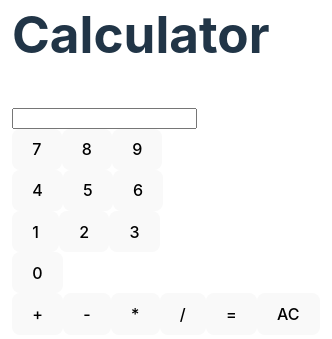
Test case: Calculator › should user input after clicking a several numbers
Click the button "1": [36, 232] box [12,211,59,252]
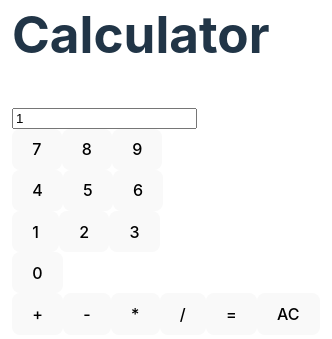
Click the button "2": [84, 232] box [59,211,109,252]
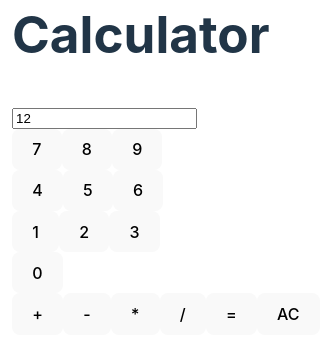
Click the button "3": [134, 232] box [109,211,160,252]
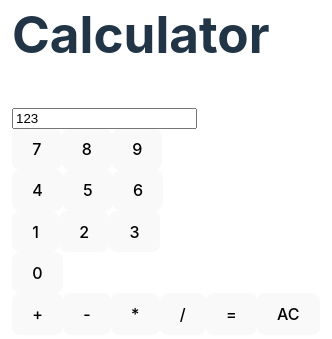
Check: the field holds "123", box [12,108,197,129]
